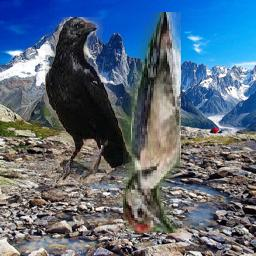Crow: (46, 17, 133, 183)
Woodpecker: (123, 13, 181, 234)
